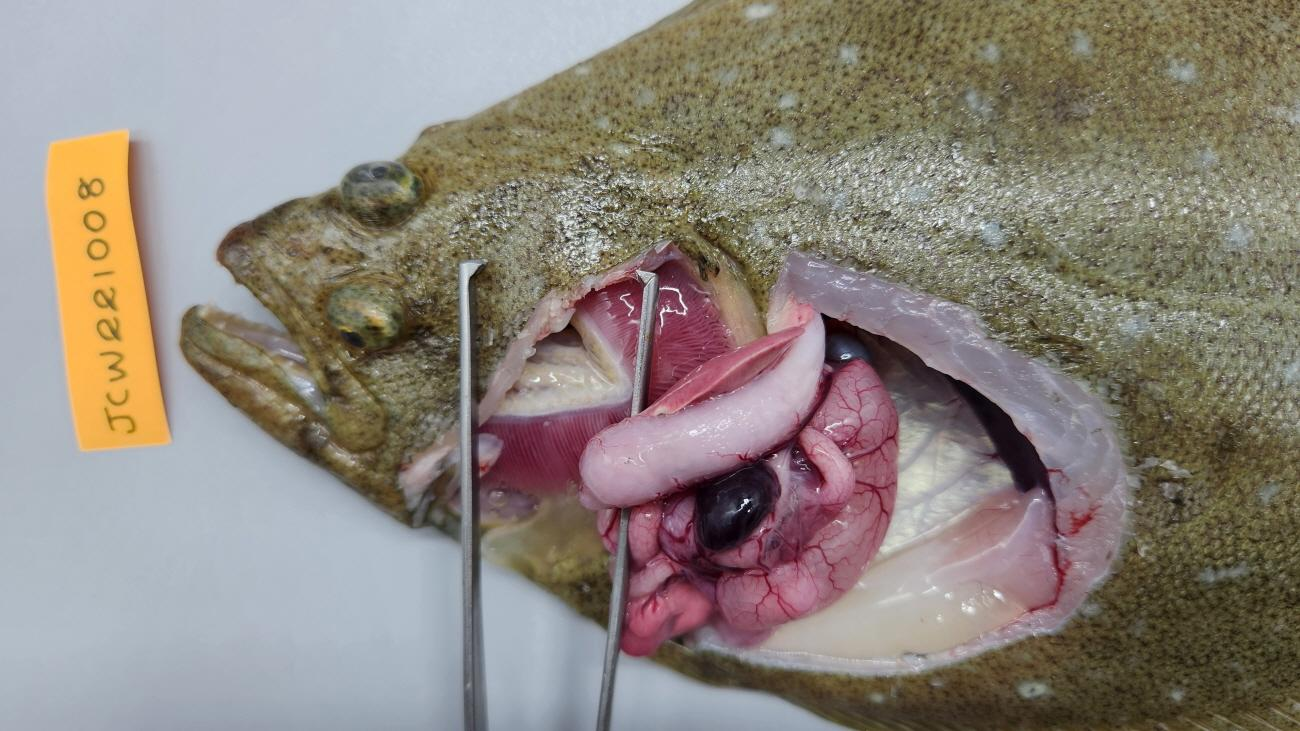POINN: (621, 352, 902, 660)
POSPN: (694, 460, 781, 553)
